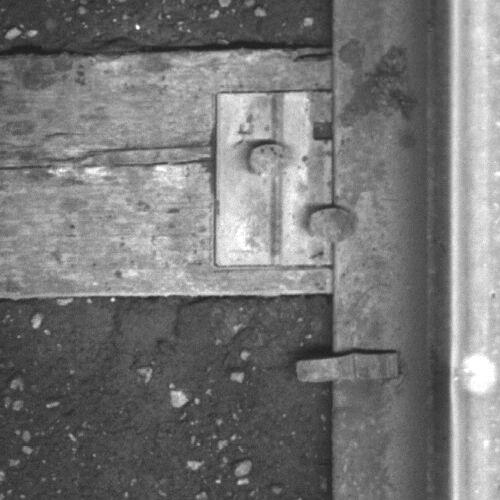crutch: (296, 349, 401, 383)
do: (214, 89, 359, 267)
hole_do: (303, 110, 345, 153)
rail: (449, 1, 500, 500)
tie_wood: (1, 51, 332, 296)
wood_crack: (1, 136, 214, 174)
